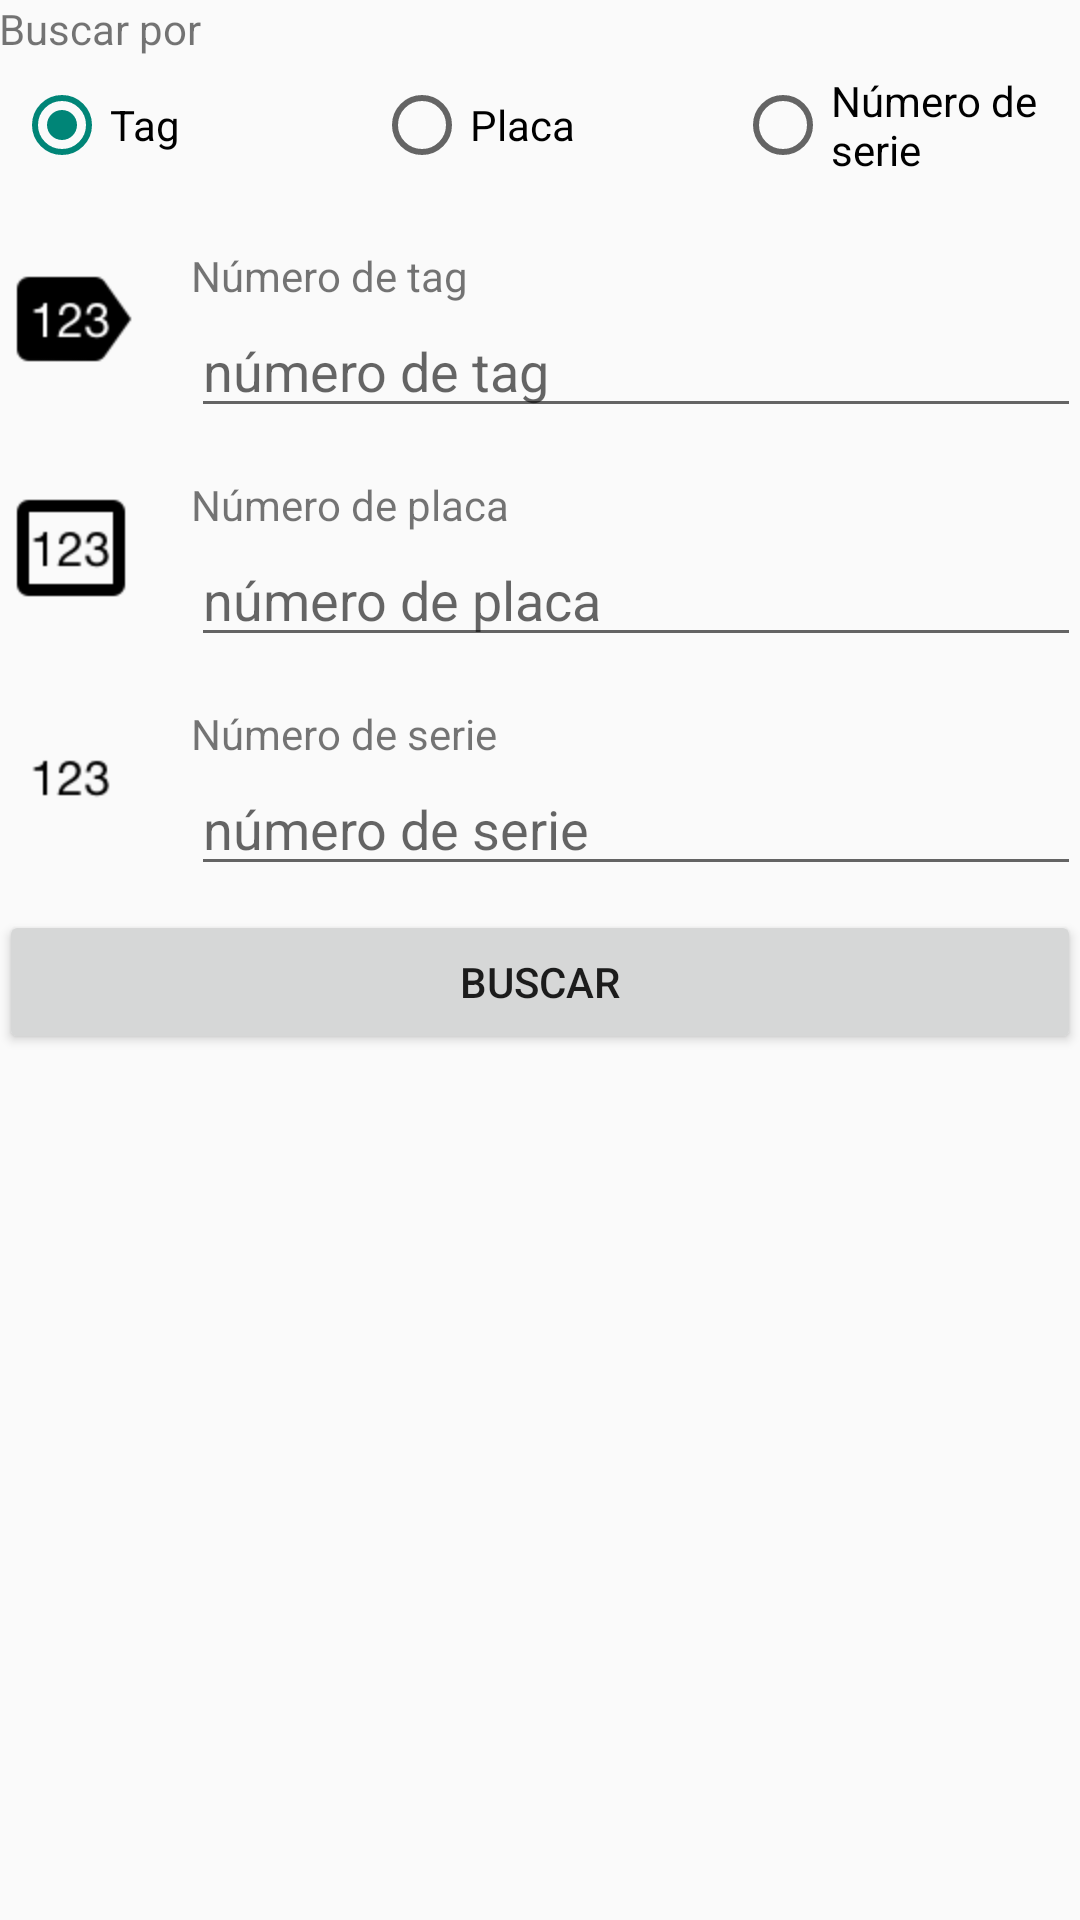

Icons on this 1080x1920 Android screen, each with the point to tap as (x,y):
license plate: (71,548)
